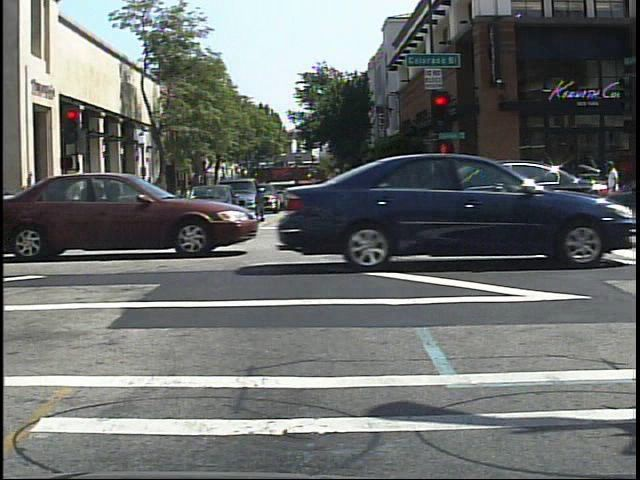person: (600, 156, 627, 221)
